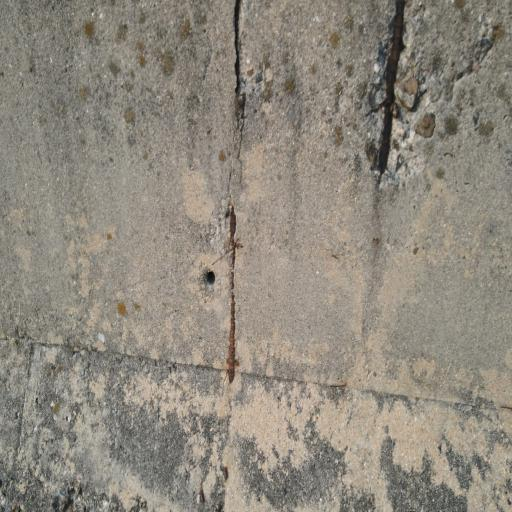exposed_rebar: (378, 0, 404, 178), (226, 212, 238, 386), (235, 0, 243, 122)
